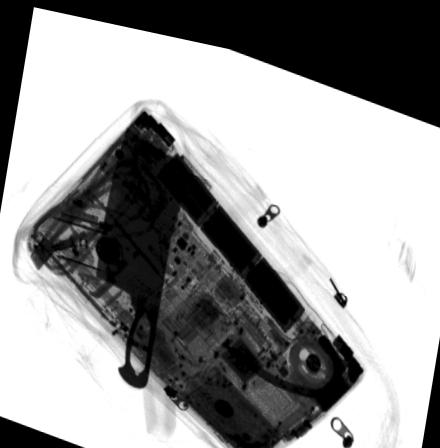Knife: (92, 117, 188, 384)
